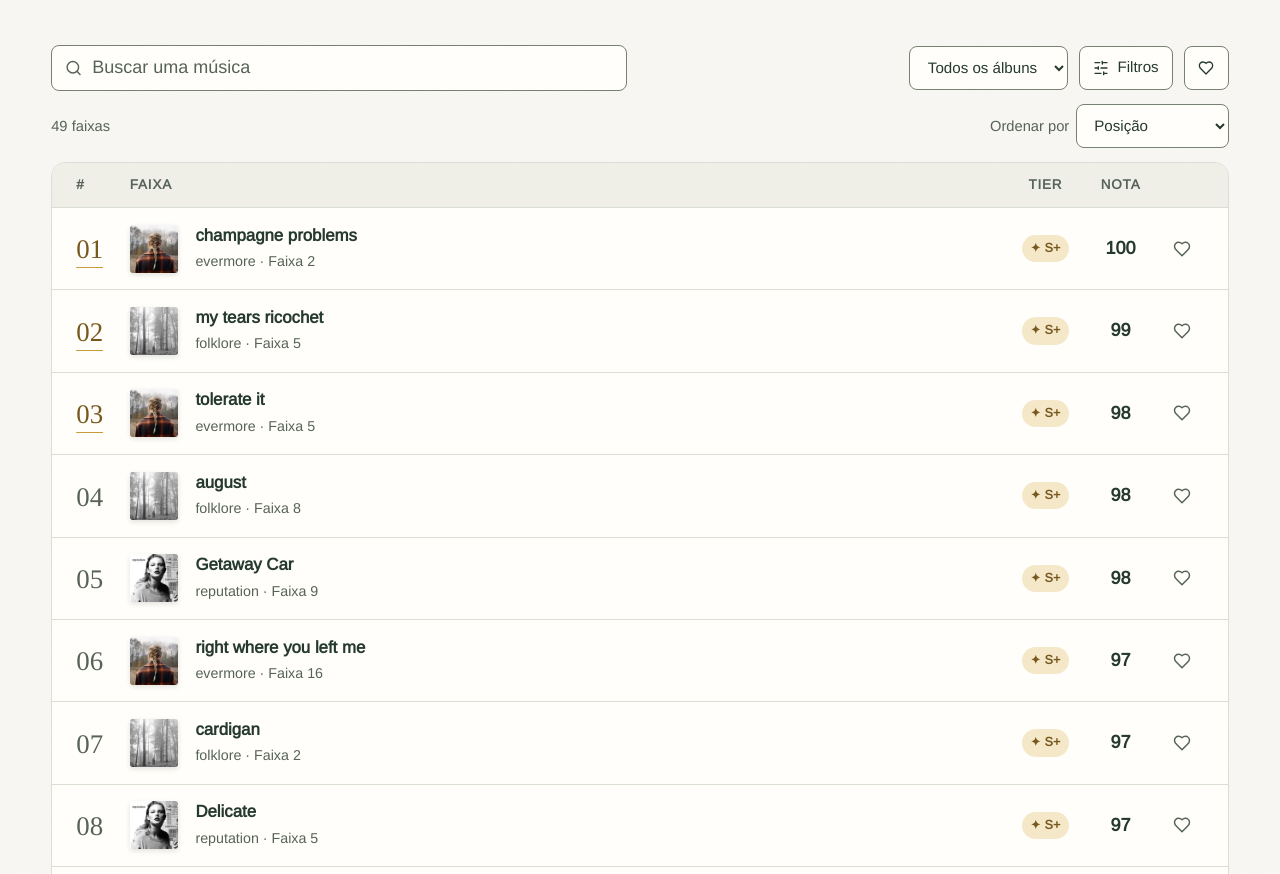
Test case: keeps results stable while typing and applies the last input after 150 ms
This screenshot has width=1280, height=874.
Later steps or results of the test are not shown.
In the search field: [352, 68] box [90, 46, 613, 90], type "champagne"
Wait 100 ms
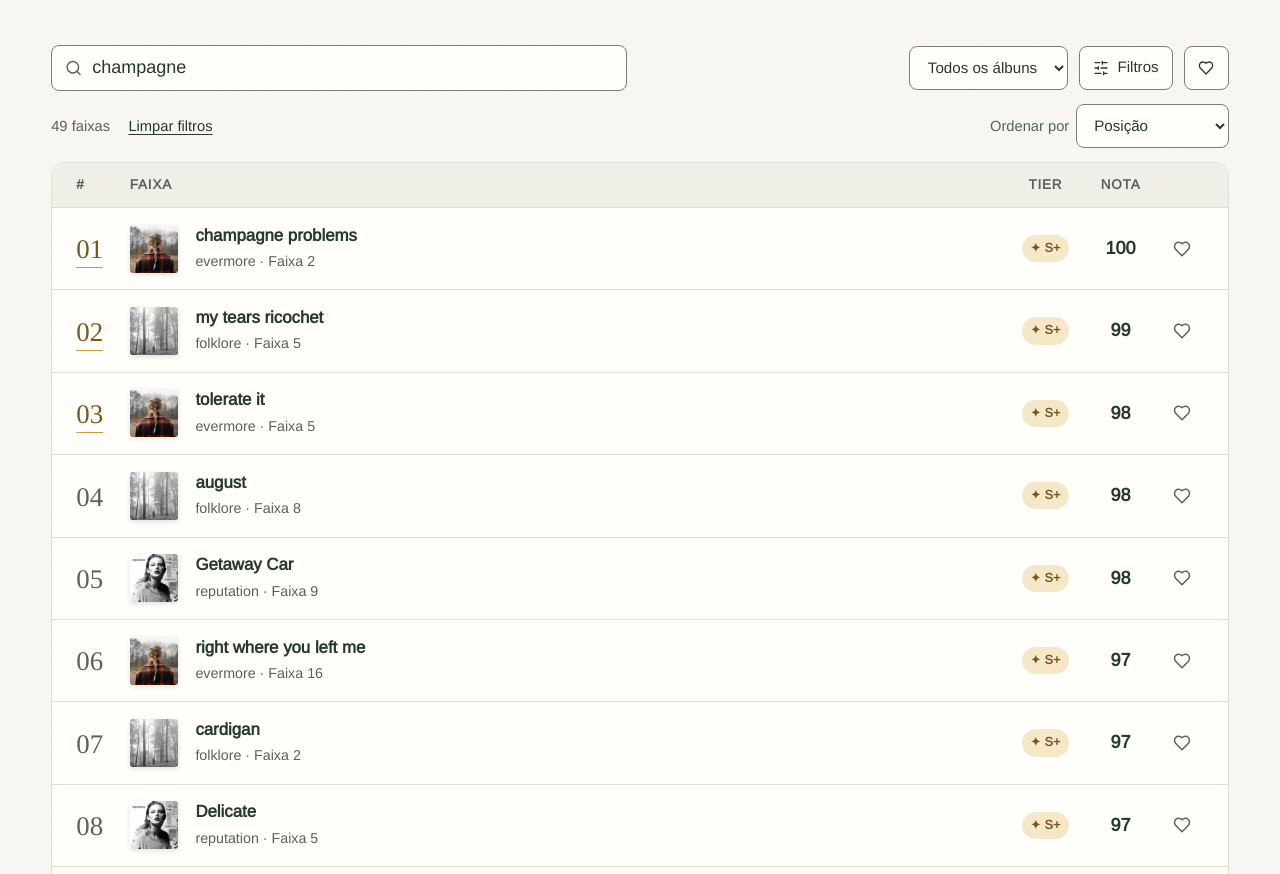
Replace the text in the search field with "a song that does not exist": [352, 68] box [90, 46, 613, 90]
Wait 150 ms
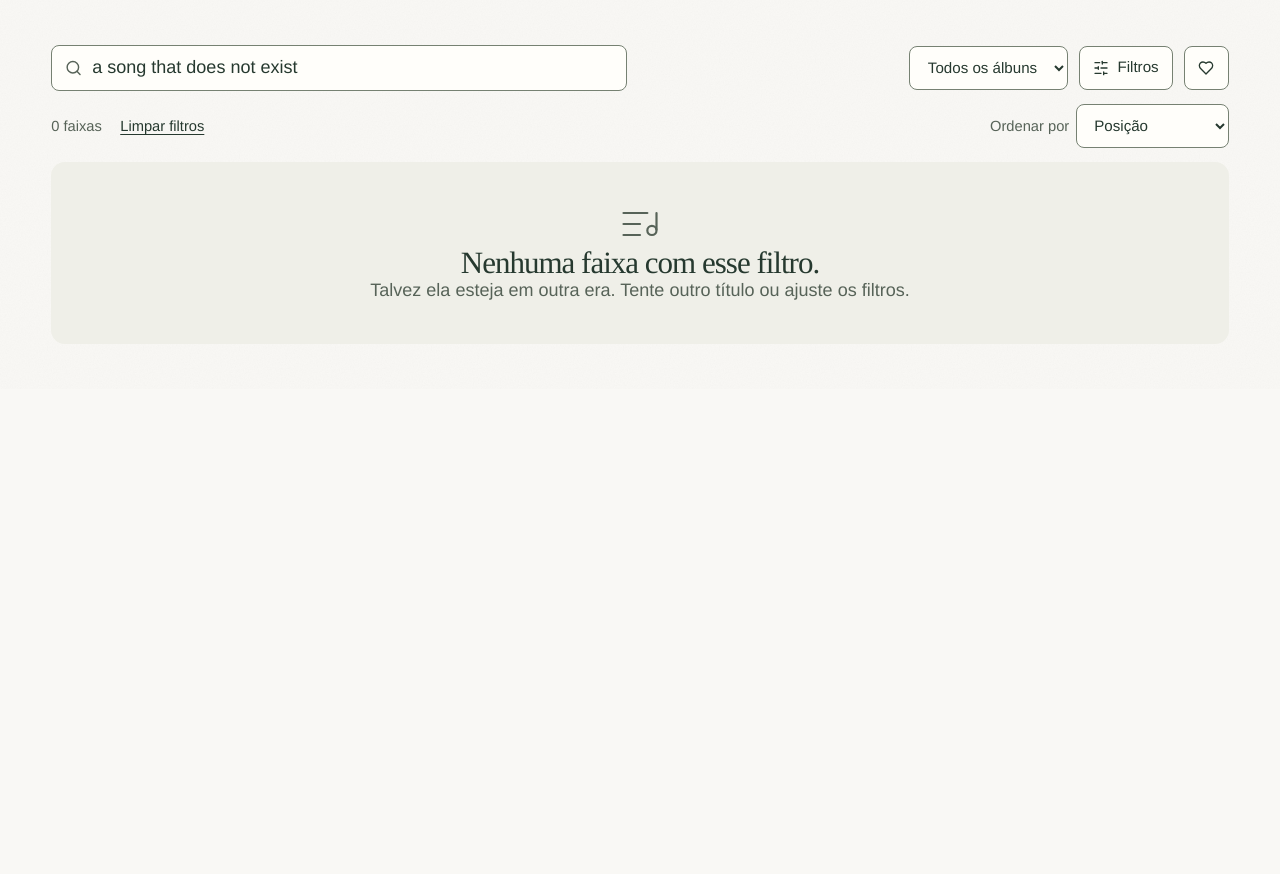
Now the heading "Nenhuma faixa com esse filtro." is shown, box [461, 246, 819, 277]
Click the button "Limpar filtros": [162, 126] box [112, 104, 212, 148]
Wait 150 ms
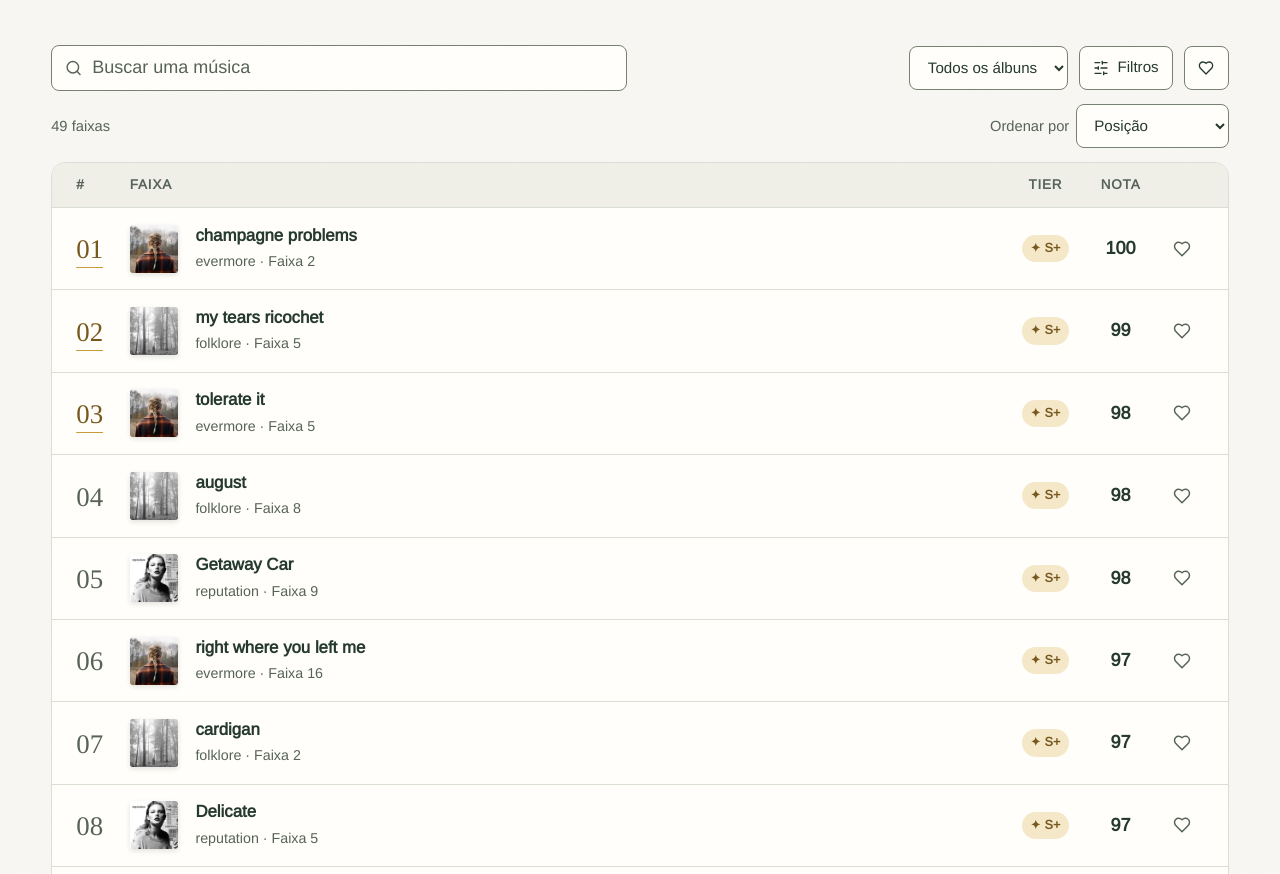
Now the number of list items is 49
